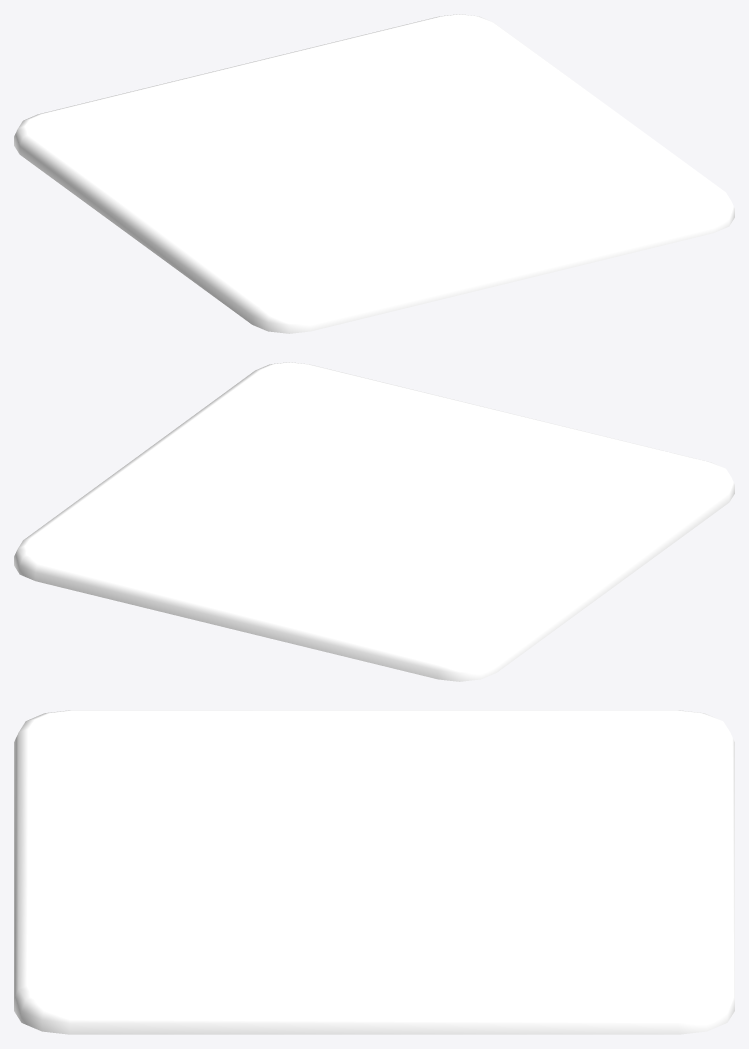
The model's file is cell_default.glb.
The picture shows the model from 3 angles, top to bottom: view 1: azimuth 30°, elevation 25°; view 2: azimuth 150°, elevation 25°; view 3: azimuth 270°, elevation 25°; orthographic projection. The views are drawn at different scales.
Visible parts, largest first — view 1: cell_default; view 2: cell_default; view 3: cell_default.
Boxes of the visible parts, <box> form: cell_default: <box>14,14,734,333</box>; cell_default: <box>14,362,734,681</box>; cell_default: <box>14,710,734,1034</box>.
Size of what is drawn, in the model's own units: 1 by 0.04 by 1.
1 material, 1 textured.
